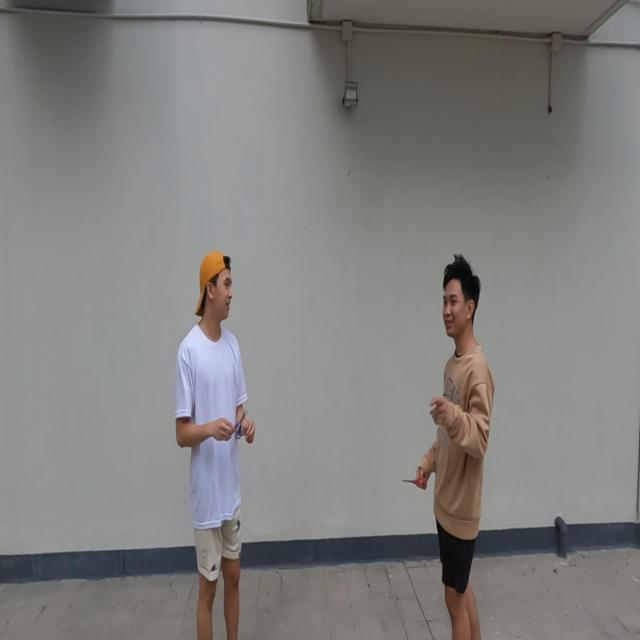scissor: (228, 407, 249, 440), (402, 476, 426, 490)
